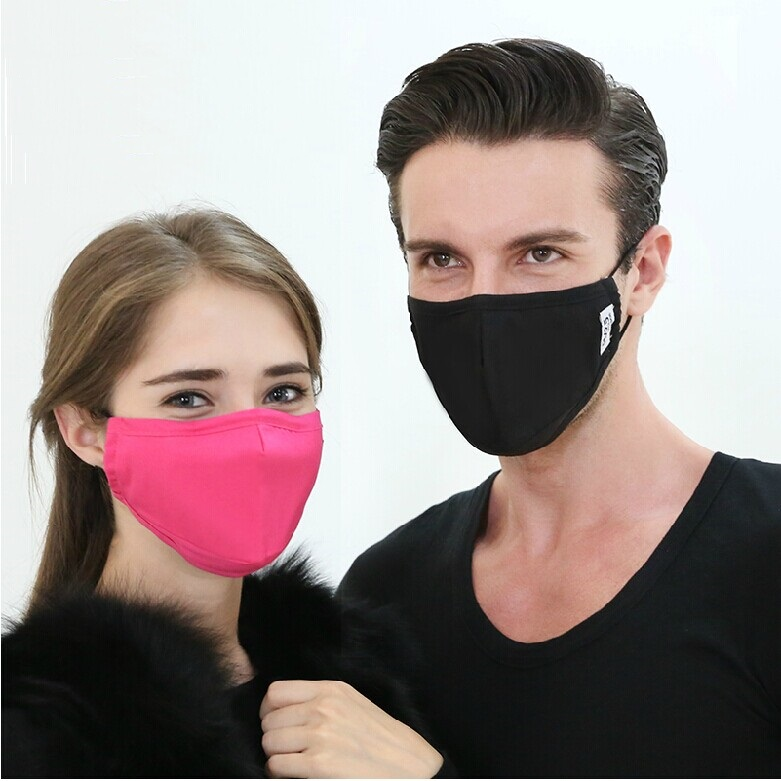face_mask: (404, 133, 618, 458), (107, 280, 321, 574)
